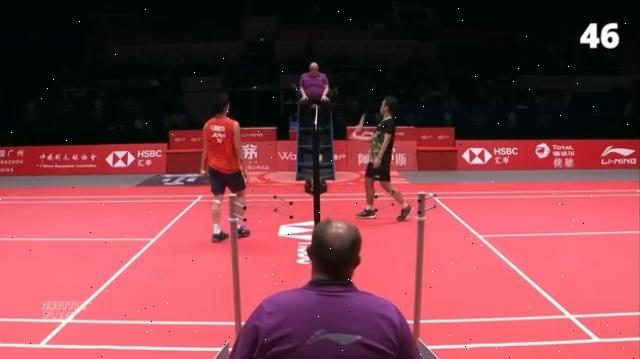Shuttlecock: (316, 154, 326, 163)
